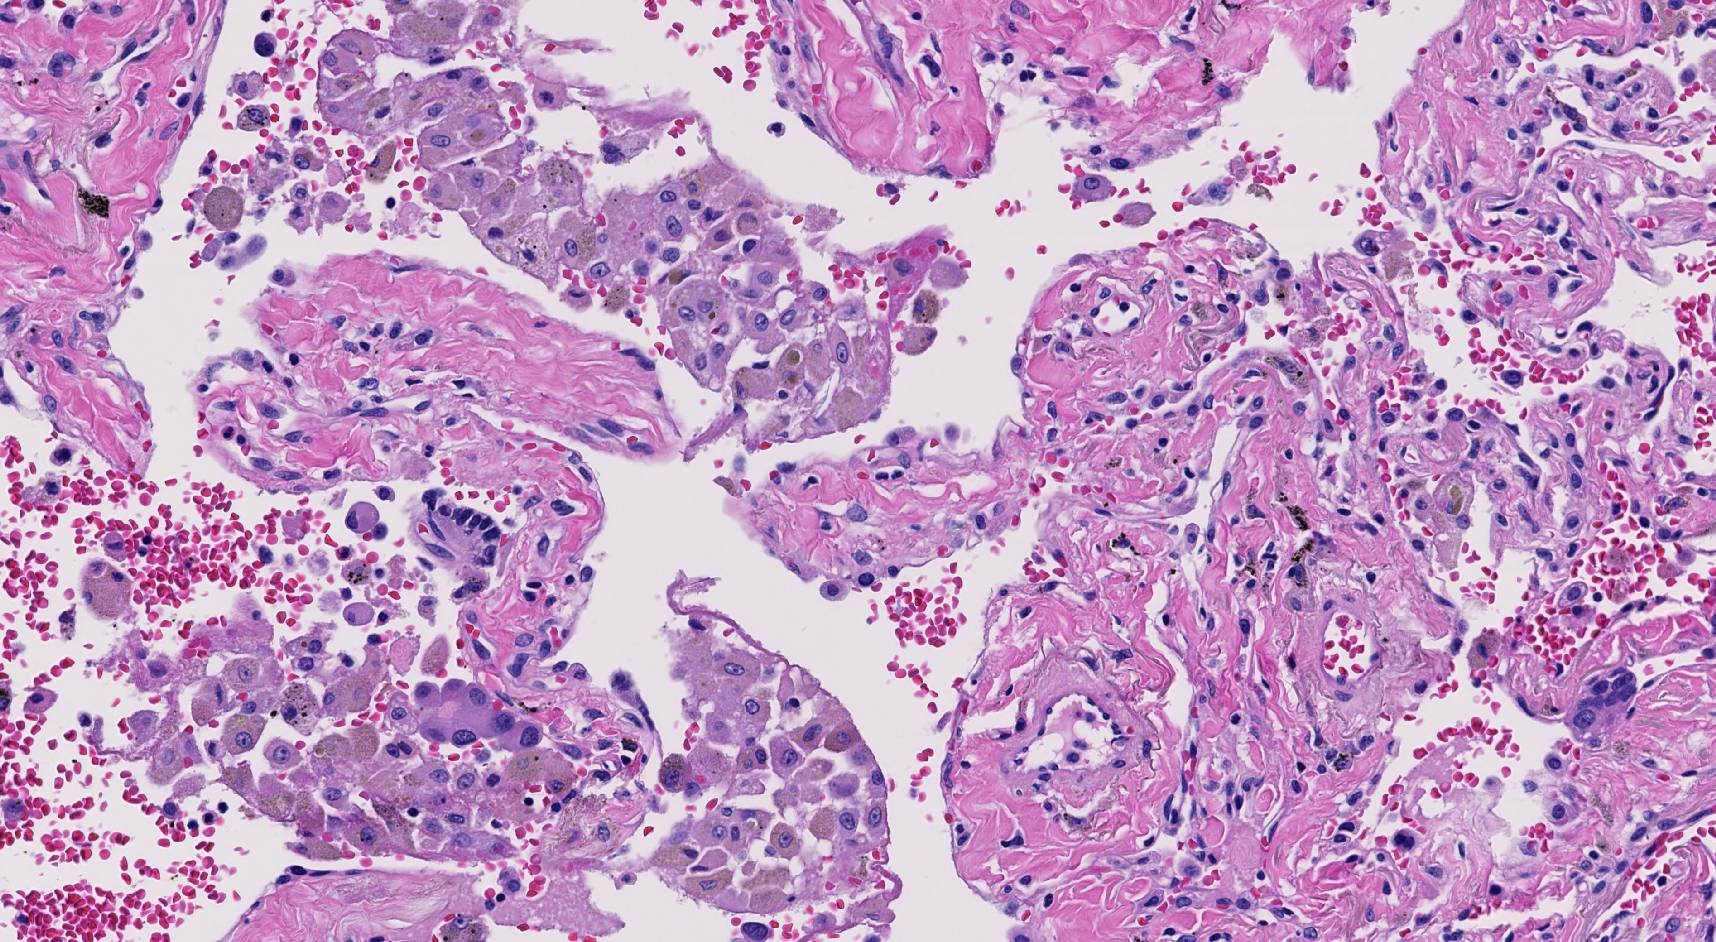stas: (406, 488, 501, 603), (410, 680, 543, 750)
